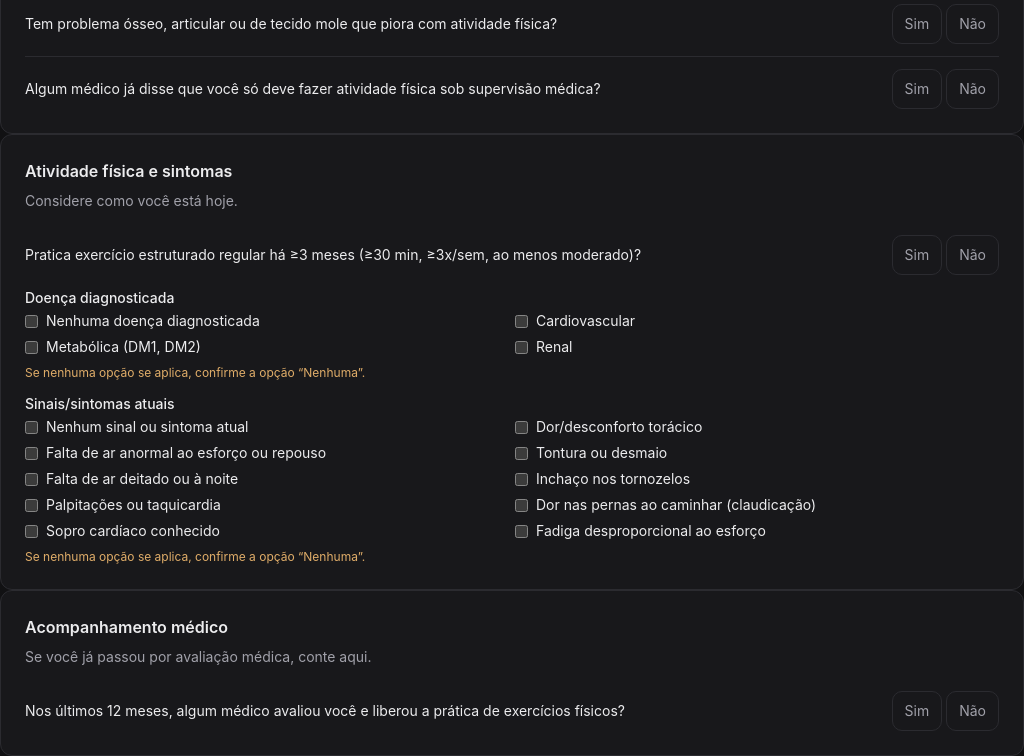
Test: A3 — parecer médico declarado › a data só é pedida depois do "Sim"
(page scrolled)
expect the text "Quando foi? (se lembrar a data)" is not shown: met
Step 1. Click the 4th button "Sim" → (917, 711), box [892,691,942,731]
(page scrolled)
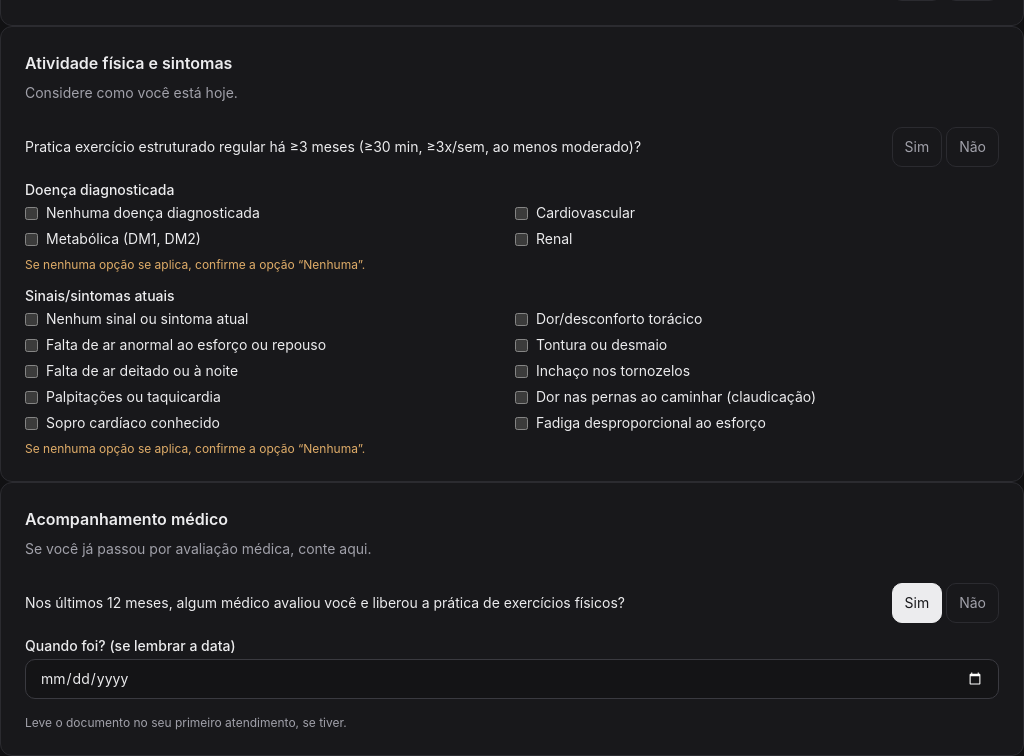
expect the text "Quando foi? (se lembrar a data)" is shown: met, box [25,637,236,654]
